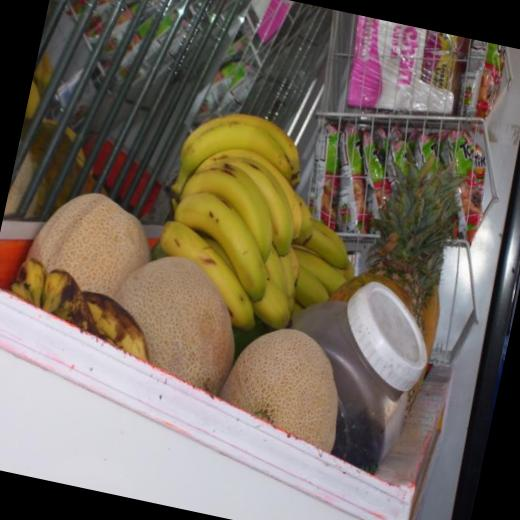Banana: (140, 100, 386, 352), (0, 255, 166, 364)
